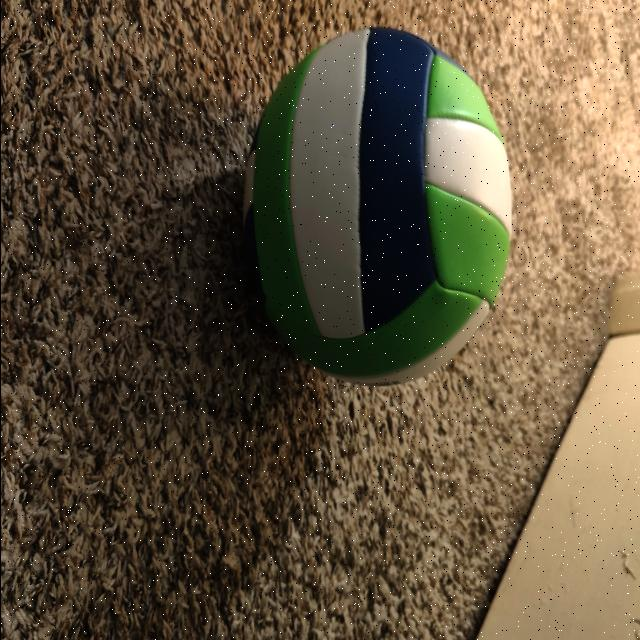ball: (249, 27, 505, 380)
